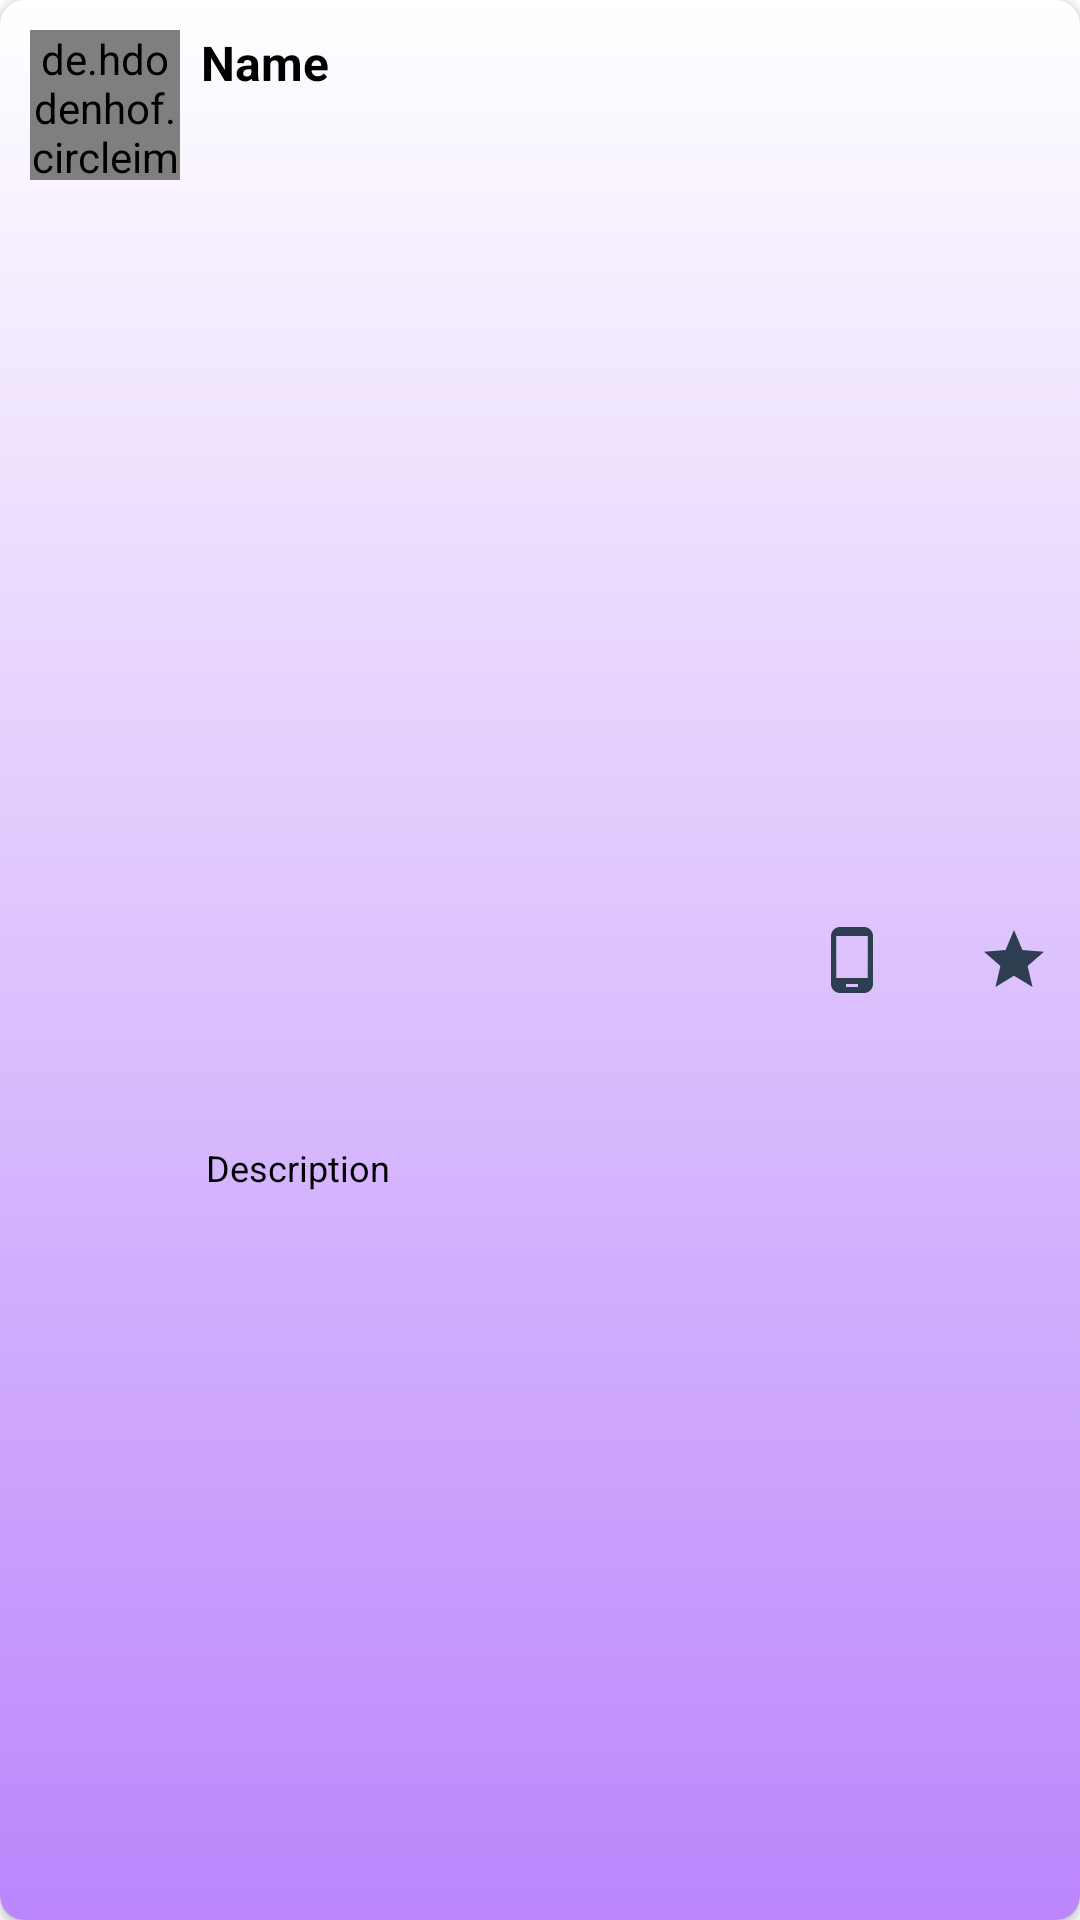

Named icons in this screenshot (1080px x 1920px) and their bounding boxes, (x1, y1, x2, y2):
phone: (831, 927, 873, 993)
star: (984, 930, 1044, 987)
